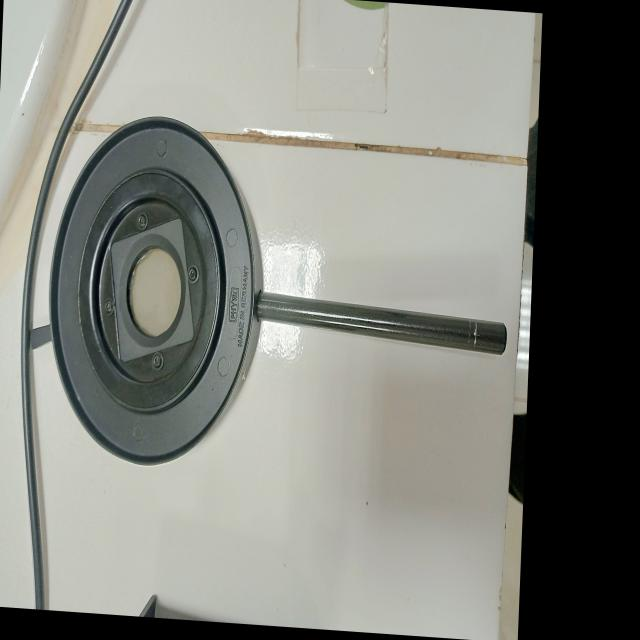Optical Polarizer: (25, 93, 524, 519)
